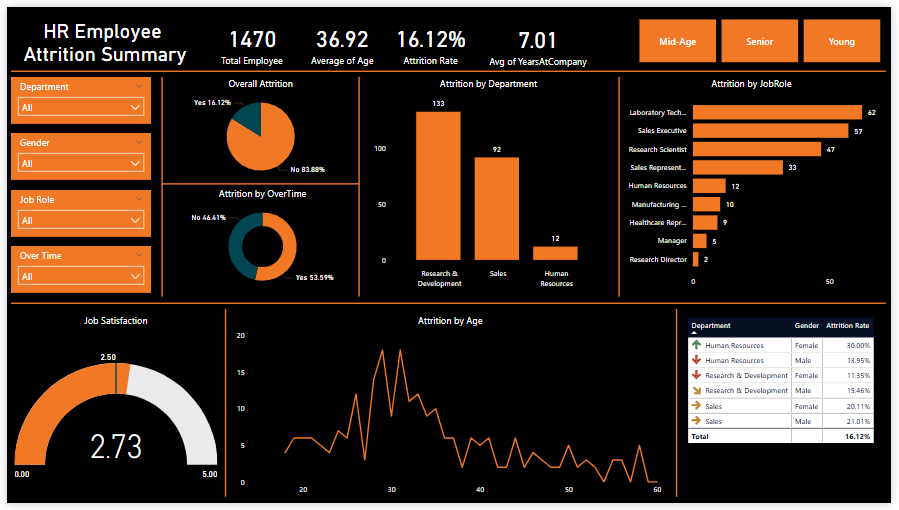

What the dashboard file says about the page in this screenshot:
{"tool":"powerbi","page":{"name":"HR Employee   Attrition Summary","canvas":[1280,720],"ordinal":0},"visuals":[{"type":"pieChart","title":"Overall Attrition","fields":{"Category":["HR-Employee-Attrition.Attrition"],"Y":["CountNonNull(HR-Employee-Attrition.Attrition)"]},"box":[237.7,101.5,259.9,155.7],"z":0},{"type":"columnChart","title":"Attrition by Department","fields":{"Category":["HR-Employee-Attrition.Department"],"Y":["Sum(HR-Employee-Attrition.Attrition(Num))"]},"box":[525.4,101.5,343.3,314.1],"z":1000},{"type":"clusteredBarChart","title":"Attrition by JobRole","fields":{"Category":["HR-Employee-Attrition.JobRole"],"Y":["Sum(HR-Employee-Attrition.Attrition(Num))"]},"box":[883.9,101.4,389.4,313.8],"z":2000},{"type":"lineChart","title":"Attrition by Age","fields":{"Y":["Sum(HR-Employee-Attrition.Attrition(Num))"],"Category":["HR-Employee-Attrition.Age"]},"box":[328,444.8,629.7,272.4],"z":3000},{"type":"donutChart","title":"Attrition by OverTime","fields":{"Category":["HR-Employee-Attrition.OverTime"],"Series":["HR-Employee-Attrition.OverTime"],"Y":["Sum(HR-Employee-Attrition.Attrition(Num))"]},"box":[237.7,261.3,265.5,155.7],"z":4000},{"type":"textbox","box":[5.6,12.5,272.4,80.6],"z":5000},{"type":"card","fields":{"Values":["Sum(HR-Employee-Attrition.EmployeeCount)"]},"box":[287.7,11.1,133.4,80.6],"z":6000},{"type":"card","fields":{"Values":["Avg(HR-Employee-Attrition.Age)"]},"box":[424.4,11.1,122.3,80.6],"z":7000},{"type":"card","fields":{"Values":["HR-Employee-Attrition.Attrition Rate"]},"box":[550,11.1,129.3,80.6],"z":8000},{"type":"card","fields":{"Values":["Avg(HR-Employee-Attrition.YearsAtCompany)"]},"box":[682.5,12.5,173.7,80.6],"z":9000},{"type":"tableEx","fields":{"Values":["HR-Employee-Attrition.Department","HR-Employee-Attrition.Gender","HR-Employee-Attrition.Attrition Rate"]},"box":[981,445.1,292.3,263.7],"z":10000},{"type":"slicer","fields":{"Values":["HR-Employee-Attrition.Department"]},"box":[5.6,101.5,202.9,68.1],"z":11000},{"type":"advancedSlicerVisual","fields":{"Values":["HR-Employee-Attrition.Age Group"]},"box":[911.8,12.5,361.4,72.3],"z":12000},{"type":"slicer","fields":{"Values":["HR-Employee-Attrition.Gender"]},"box":[5.6,183.2,202.9,68.1],"z":13000},{"type":"slicer","fields":{"Values":["HR-Employee-Attrition.JobRole"]},"box":[5.6,265,202.9,68.1],"z":14000},{"type":"slicer","fields":{"Values":["HR-Employee-Attrition.OverTime"]},"box":[5.5,346.8,203.2,68.3],"z":15000},{"type":"gauge","fields":{"Y":["Avg(HR-Employee-Attrition.JobSatisfaction)"]},"box":[5.6,444.8,304.4,272.4],"z":16000},{"type":"shape","box":[497.6,101.5,26.4,318.3],"z":17000},{"type":"shape","box":[211.5,101.5,26.4,318.3],"z":18000},{"type":"shape","box":[874.3,101.5,26.4,318.3],"z":19000},{"type":"shape","box":[301.6,437.4,30.6,272.4],"z":20000},{"type":"shape","box":[954.9,437.4,30.6,272.4],"z":21000},{"type":"shape","box":[5.6,421.2,1267.6,15.3],"z":22000},{"type":"shape","box":[5.6,84.8,1267.6,15.3],"z":23000},{"type":"shape","box":[224.7,248.5,286.1,17],"z":24000}]}

Visuals, with their boxes in screenshot pixels (x1, y1, x2, y2), scaled from the page's 1280x720 canvas onto the 899x510 screenshot:
"Overall Attrition" pieChart: (x1=167, y1=72, x2=349, y2=182)
"Attrition by Department" columnChart: (x1=369, y1=72, x2=610, y2=294)
"Attrition by JobRole" clusteredBarChart: (x1=621, y1=72, x2=894, y2=294)
"Attrition by Age" lineChart: (x1=230, y1=315, x2=673, y2=508)
"Attrition by OverTime" donutChart: (x1=167, y1=185, x2=353, y2=295)
textbox: (x1=4, y1=9, x2=195, y2=66)
card - Sum(HR-Employee-Attrition.EmployeeCount): (x1=202, y1=8, x2=296, y2=65)
card - Avg(HR-Employee-Attrition.Age): (x1=298, y1=8, x2=384, y2=65)
card - HR-Employee-Attrition.Attrition Rate: (x1=386, y1=8, x2=477, y2=65)
card - Avg(HR-Employee-Attrition.YearsAtCompany): (x1=479, y1=9, x2=601, y2=66)
tableEx - HR-Employee-Attrition.Department x HR-Employee-Attrition.Gender: (x1=689, y1=315, x2=894, y2=502)
slicer - HR-Employee-Attrition.Department: (x1=4, y1=72, x2=146, y2=120)
advancedSlicerVisual - HR-Employee-Attrition.Age Group: (x1=640, y1=9, x2=894, y2=60)
slicer - HR-Employee-Attrition.Gender: (x1=4, y1=130, x2=146, y2=178)
slicer - HR-Employee-Attrition.JobRole: (x1=4, y1=188, x2=146, y2=236)
slicer - HR-Employee-Attrition.OverTime: (x1=4, y1=246, x2=147, y2=294)
gauge - Avg(HR-Employee-Attrition.JobSatisfaction): (x1=4, y1=315, x2=218, y2=508)
shape: (x1=349, y1=72, x2=368, y2=297)
shape: (x1=149, y1=72, x2=167, y2=297)
shape: (x1=614, y1=72, x2=633, y2=297)
shape: (x1=212, y1=310, x2=233, y2=503)
shape: (x1=671, y1=310, x2=692, y2=503)
shape: (x1=4, y1=298, x2=894, y2=309)
shape: (x1=4, y1=60, x2=894, y2=71)
shape: (x1=158, y1=176, x2=359, y2=188)
